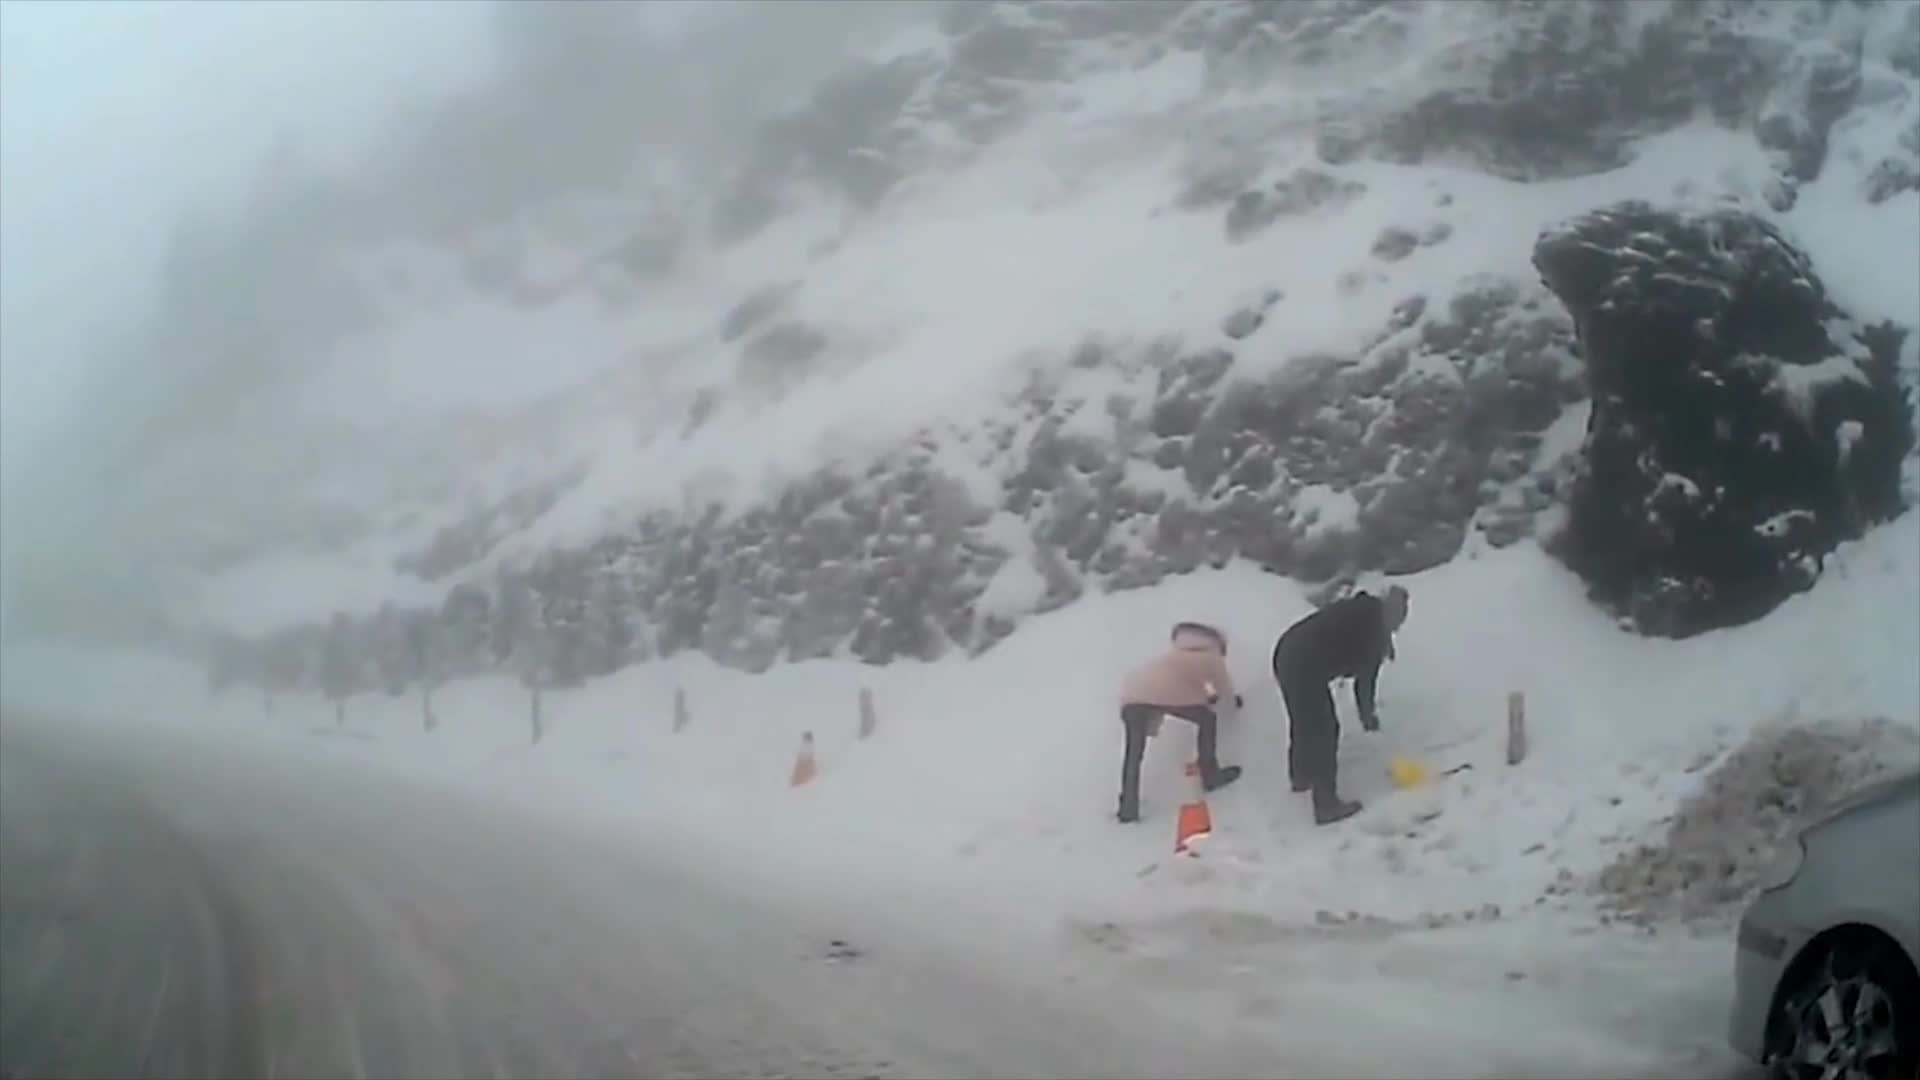pedestrian: (1273, 585, 1412, 821), (1115, 610, 1252, 825)
vehicle: (1724, 765, 1920, 1080)
